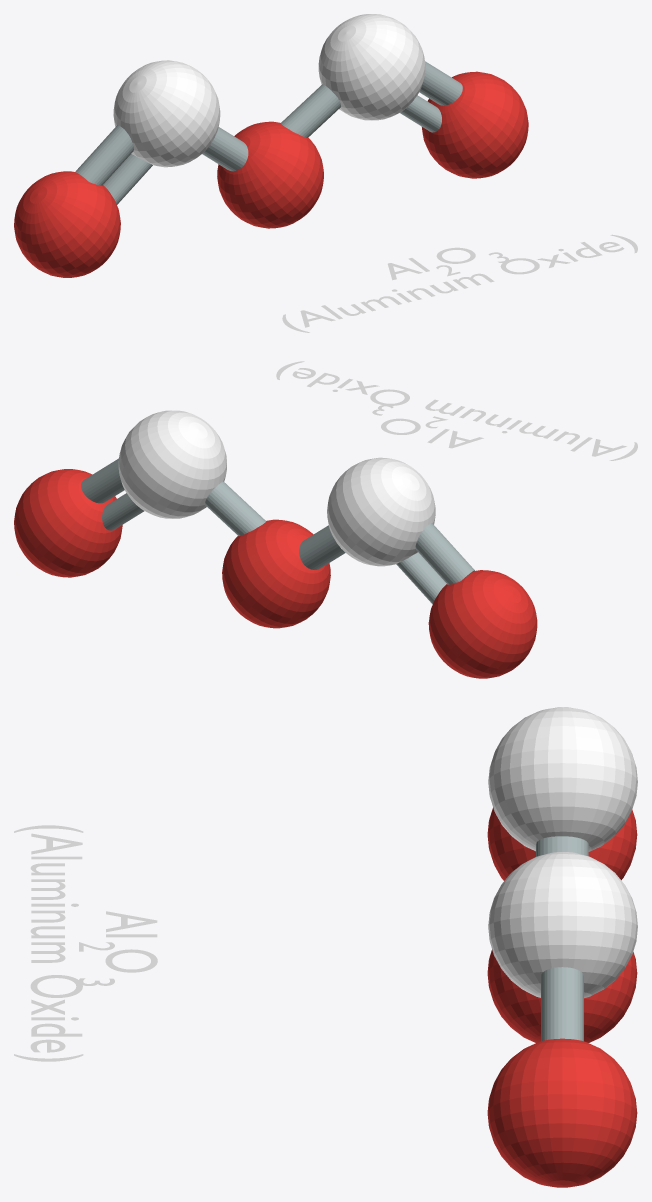
File: Aluminium Oxide.fbx
3 renders of one model, top to bottom at view 1: azimuth 30°, elevation 25°; view 2: azimuth 150°, elevation 25°; view 3: azimuth 270°, elevation 25°, orthographic. The views are drawn at different scales.
Parts seen in each view (by area): view 1: Sphere, Sphere.002, Sphere.001, Sphere.003, Sphere.004, Text, Cylinder, Cylinder.001, Cylinder.002, Cylinder.003, Cylinder.004, Cylinder.008; view 2: Sphere, Sphere.002, Sphere.001, Sphere.003, Sphere.004, Text, Cylinder, Cylinder.001, Cylinder.002, Cylinder.004, Cylinder.003, Cylinder.008; view 3: Sphere.004, Sphere.001, Sphere.002, Text, Sphere.003, Sphere, Cylinder.003, Cylinder.002.
Part boxes in pixels (x1,y1,x2,y2): Sphere: [14, 171, 120, 277]; Sphere.002: [318, 14, 425, 120]; Sphere.001: [113, 60, 220, 167]; Sphere.003: [217, 121, 323, 228]; Sphere.004: [422, 71, 528, 178]; Text: [282, 234, 637, 332]; Cylinder: [75, 125, 133, 185]; Cylinder.001: [280, 84, 340, 137]; Cylinder.002: [202, 127, 248, 171]; Cylinder.003: [419, 61, 462, 105]; Cylinder.004: [103, 153, 152, 204]; Cylinder.008: [400, 95, 441, 132]; Sphere: [428, 570, 537, 678]; Sphere.002: [118, 410, 226, 518]; Sphere.001: [327, 457, 435, 566]; Sphere.003: [222, 519, 330, 628]; Sphere.004: [14, 469, 122, 577]; Text: [276, 361, 637, 460]; Cylinder: [415, 523, 474, 584]; Cylinder.001: [205, 481, 266, 535]; Cylinder.002: [299, 525, 345, 569]; Cylinder.004: [396, 552, 446, 604]; Cylinder.003: [81, 458, 124, 503]; Cylinder.008: [102, 493, 144, 530]; Sphere.004: [487, 1038, 637, 1187]; Sphere.001: [488, 707, 637, 851]; Sphere.002: [488, 852, 637, 997]; Text: [14, 825, 157, 1061]; Sphere.003: [487, 949, 637, 1042]; Sphere: [487, 807, 637, 880]; Cylinder.003: [541, 967, 583, 1041]; Cylinder.002: [536, 836, 588, 856].
Size of the model in its own units: 1079 by 377 by 833.
